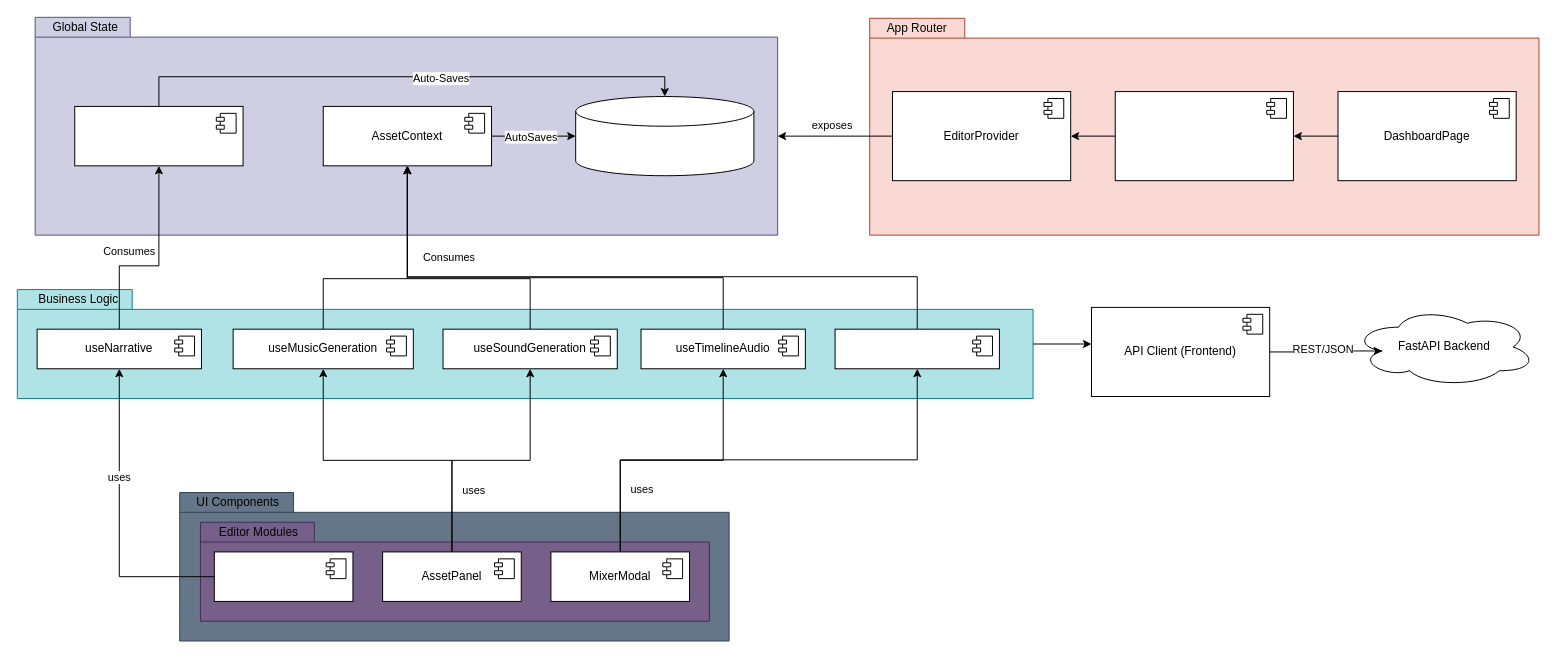
The diagram is 1556 pixels wide and 658 high, and some of its shapes have lost their labels. Here are the shapes that lost their labels. From the top down, the box of each, then its label:
(74, 105, 243, 166): NarrativeContext
(575, 96, 754, 176): Local Storage
(1114, 91, 1293, 181): EditorPage
(834, 328, 999, 369): useMixer
(213, 551, 353, 601): NarrativeEditor
